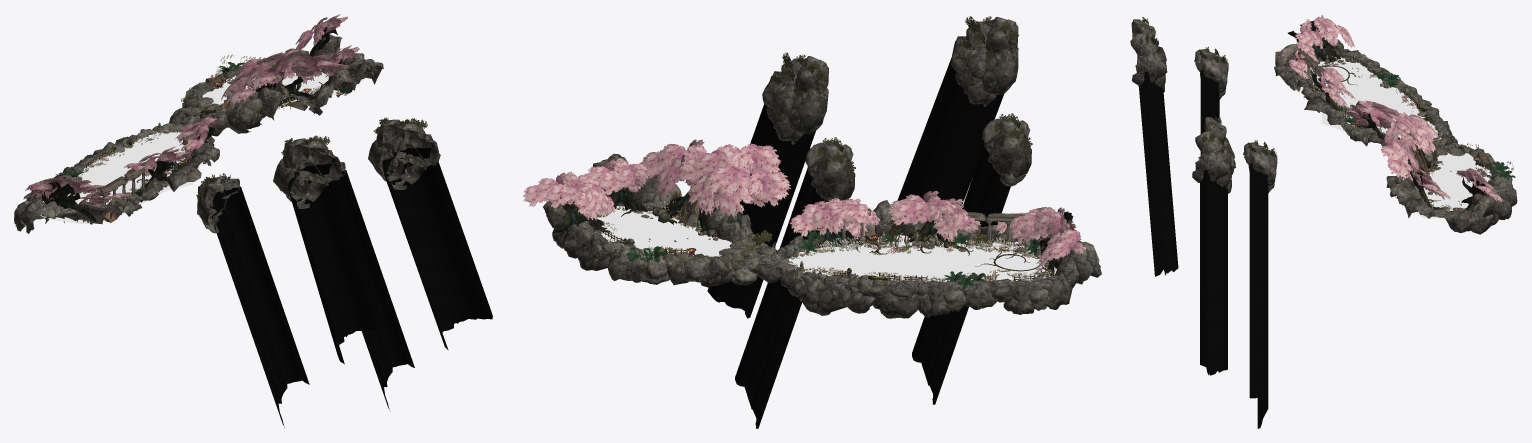
Rendered from stageProb.fbx.
3 views of the same model, side by side, from view 1: azimuth 30°, elevation 25°; view 2: azimuth 150°, elevation 25°; view 3: azimuth 270°, elevation 25° (orthographic). The views are drawn at different scales.
Visible parts, largest first — view 1: chapter002_01_shine, c02_d03_11_back, c03_a01_02, c02_c03, c02_d03_02, c02_d03_08, c02_d03_04, c03_a01_04, c02_d03_05, c03_a01_03, c02_d03_03, c02_d03_01 (+4 smaller); view 2: chapter002_01_shine, c02_d03_11_back, c02_c03, c03_a01_02, c02_d03_04, c03_a01_04, c02_d03_02, c02_d03_05, c03_a01_03, c03_a01_01, c02_d03_06, c03_a01_05_back (+4 smaller); view 3: chapter002_01_shine, c02_d03_11_back, c02_c03, c03_a01_02, c03_a01_04, c02_d03_01, c02_d03_04, c02_d03_08, c02_d03_02, c02_d03_05, c02_d03_06, c03_a01_01 (+4 smaller).
Part boxes in pixels (left/top/right/bottom): chapter002_01_shine: left=210, top=142, right=492, bottom=427; c02_d03_11_back: left=197, top=119, right=440, bottom=233; c03_a01_02: left=181, top=49, right=352, bottom=115; c02_c03: left=40, top=69, right=364, bottom=224; c02_d03_02: left=182, top=54, right=354, bottom=133; c02_d03_08: left=40, top=160, right=175, bottom=224; c02_d03_04: left=54, top=126, right=219, bottom=200; c03_a01_04: left=23, top=146, right=191, bottom=206; c02_d03_05: left=14, top=175, right=154, bottom=233; c03_a01_03: left=85, top=106, right=218, bottom=181; c02_d03_03: left=162, top=95, right=232, bottom=136; c02_d03_01: left=285, top=34, right=383, bottom=92; chapter002_01_shine: left=707, top=58, right=1010, bottom=428; c02_d03_11_back: left=762, top=17, right=1031, bottom=202; c02_c03: left=590, top=206, right=1056, bottom=281; c03_a01_02: left=568, top=139, right=790, bottom=267; c02_d03_04: left=780, top=200, right=967, bottom=318; c03_a01_04: left=887, top=191, right=1085, bottom=288; c02_d03_02: left=578, top=175, right=753, bottom=287; c02_d03_05: left=954, top=225, right=1101, bottom=314; c03_a01_03: left=744, top=198, right=933, bottom=281; c03_a01_01: left=523, top=158, right=649, bottom=233; c02_d03_06: left=552, top=171, right=720, bottom=256; c03_a01_05_back: left=770, top=16, right=1032, bottom=179; chapter002_01_shine: left=1138, top=70, right=1268, bottom=428; c02_d03_11_back: left=1130, top=19, right=1277, bottom=193; c02_c03: left=1300, top=56, right=1491, bottom=218; c03_a01_02: left=1359, top=102, right=1515, bottom=198; c03_a01_04: left=1282, top=15, right=1400, bottom=106; c02_d03_01: left=1389, top=183, right=1509, bottom=234; c02_d03_04: left=1304, top=80, right=1457, bottom=146; c02_d03_08: left=1275, top=21, right=1391, bottom=110; c02_d03_02: left=1386, top=145, right=1517, bottom=219; c02_d03_05: left=1274, top=37, right=1400, bottom=97; c02_d03_06: left=1405, top=138, right=1496, bottom=220; c03_a01_01: left=1405, top=166, right=1504, bottom=211.
Size of what is drawn, in the model's own units: 96.05 by 78.89 by 81.47.
Materials: 6 (5 with a texture image).
